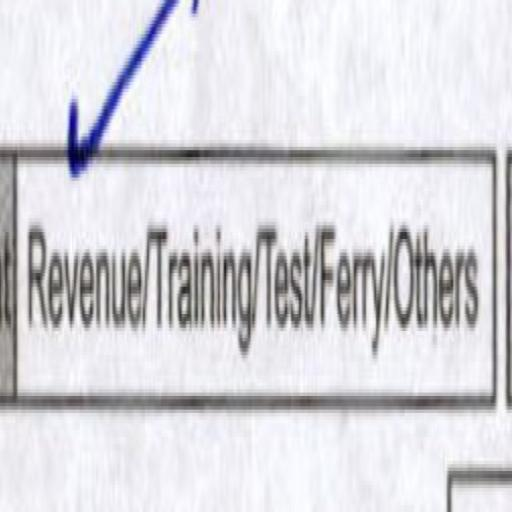check: (28, 64, 150, 384)
